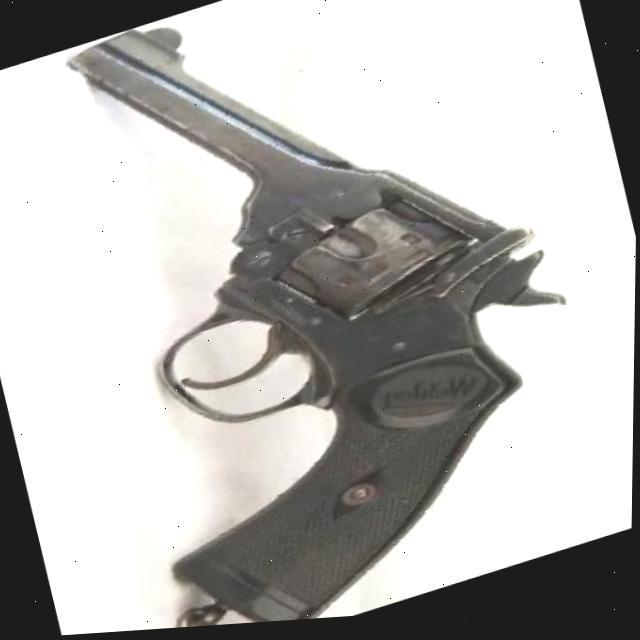gun: (56, 0, 633, 637)
